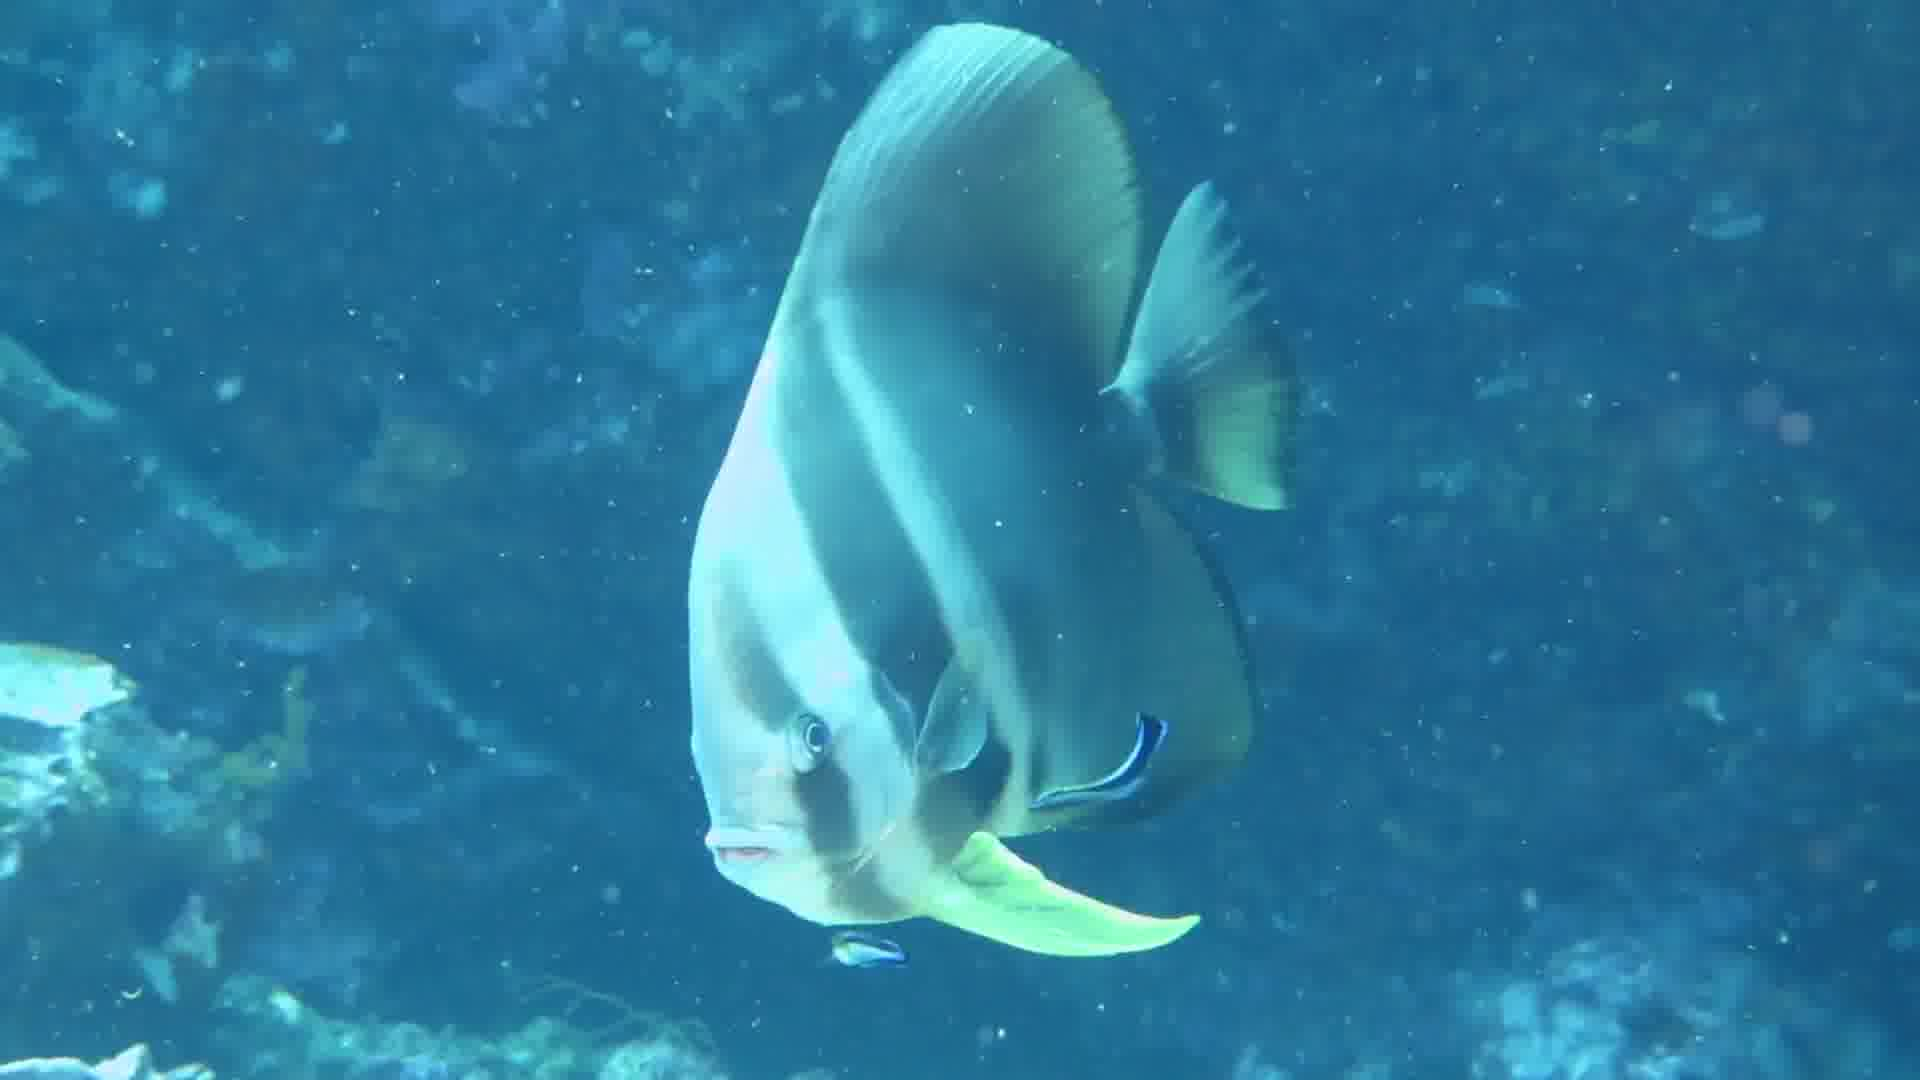Platax teira: (487, 17, 1568, 1031)
